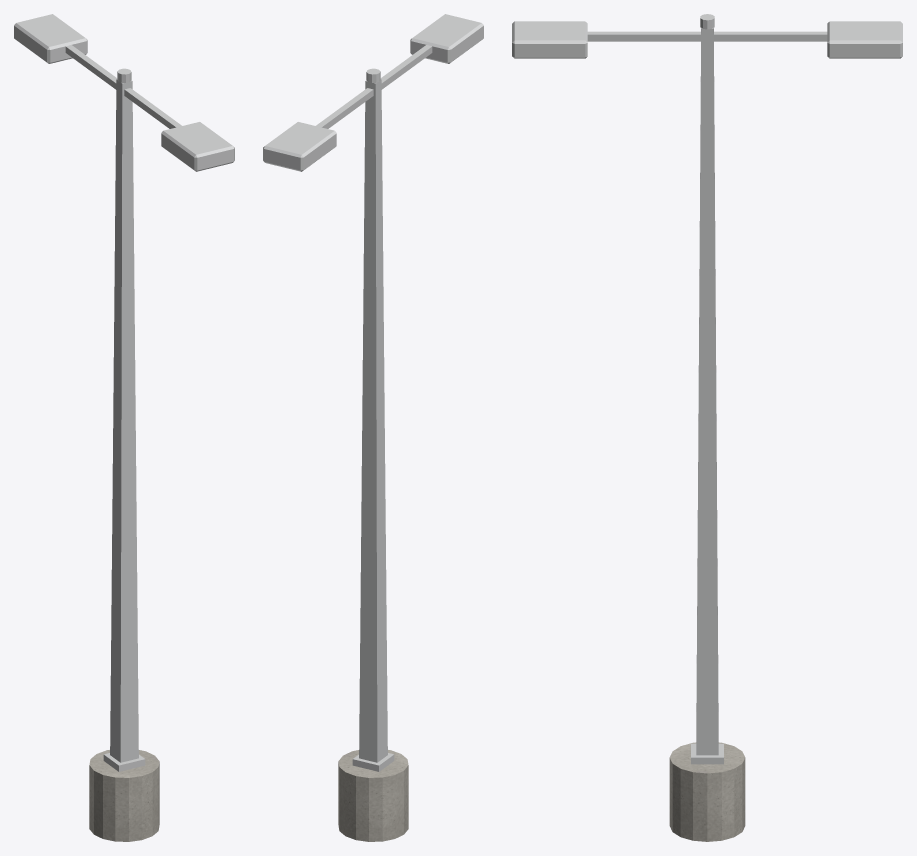
Rendered from light_pole.glb.
The picture shows the model from 3 angles, left to right: view 1: azimuth 30°, elevation 25°; view 2: azimuth 150°, elevation 25°; view 3: azimuth 270°, elevation 25°; orthographic projection. The views are drawn at different scales.
Visible parts, largest first — view 1: light_pole_steel, light_pole_concrete; view 2: light_pole_steel, light_pole_concrete; view 3: light_pole_steel, light_pole_concrete.
Boxes of the visible parts, <box> form: light_pole_steel: <box>14,14,234,771</box>; light_pole_concrete: <box>89,750,159,841</box>; light_pole_steel: <box>263,14,483,771</box>; light_pole_concrete: <box>338,750,408,841</box>; light_pole_steel: <box>512,14,902,764</box>; light_pole_concrete: <box>669,742,745,841</box>.
Size of the model in its own units: 0.6 by 7.08 by 3.1.
3 materials, 1 textured.
